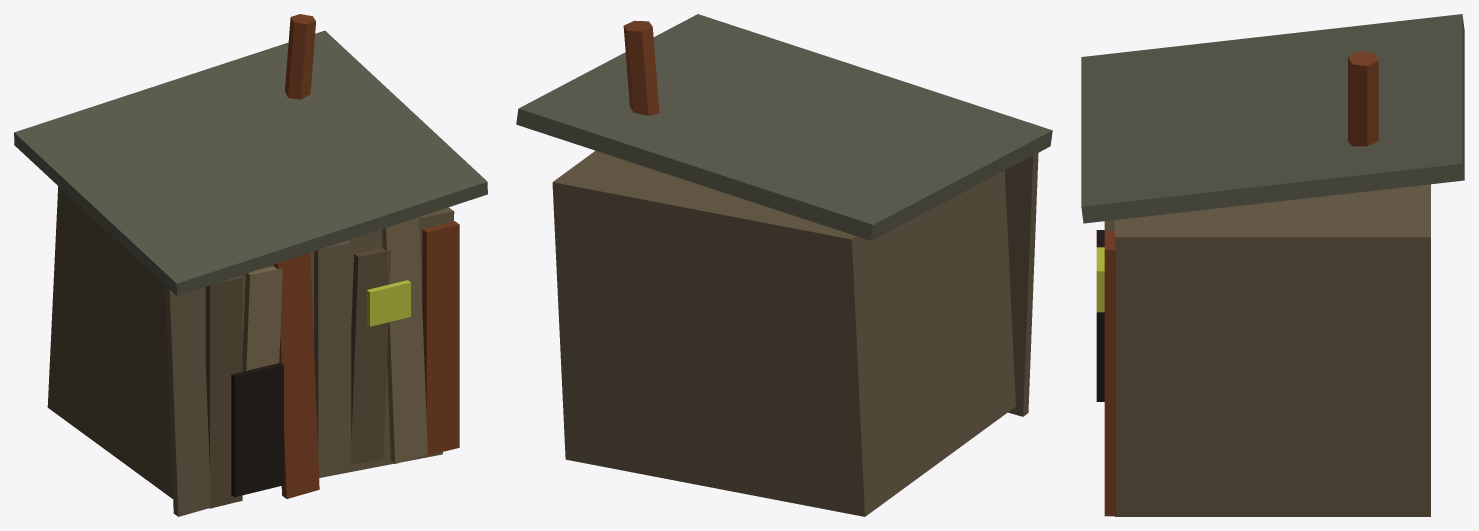
The model's file is ratfolk_house_b.glb.
3 renders of one model, left to right at view 1: azimuth 30°, elevation 25°; view 2: azimuth 150°, elevation 25°; view 3: azimuth 270°, elevation 25°, orthographic. The views are drawn at different scales.
Parts seen in each view (by area): view 1: ratfolk_house_b; view 2: ratfolk_house_b; view 3: ratfolk_house_b.
Part boxes in pixels (bbox=[...]): ratfolk_house_b: bbox=[14, 14, 487, 516]; ratfolk_house_b: bbox=[516, 14, 1052, 516]; ratfolk_house_b: bbox=[1081, 14, 1464, 516].
Bounding box in the file's own units: 1.92 × 2.16 × 1.7.
